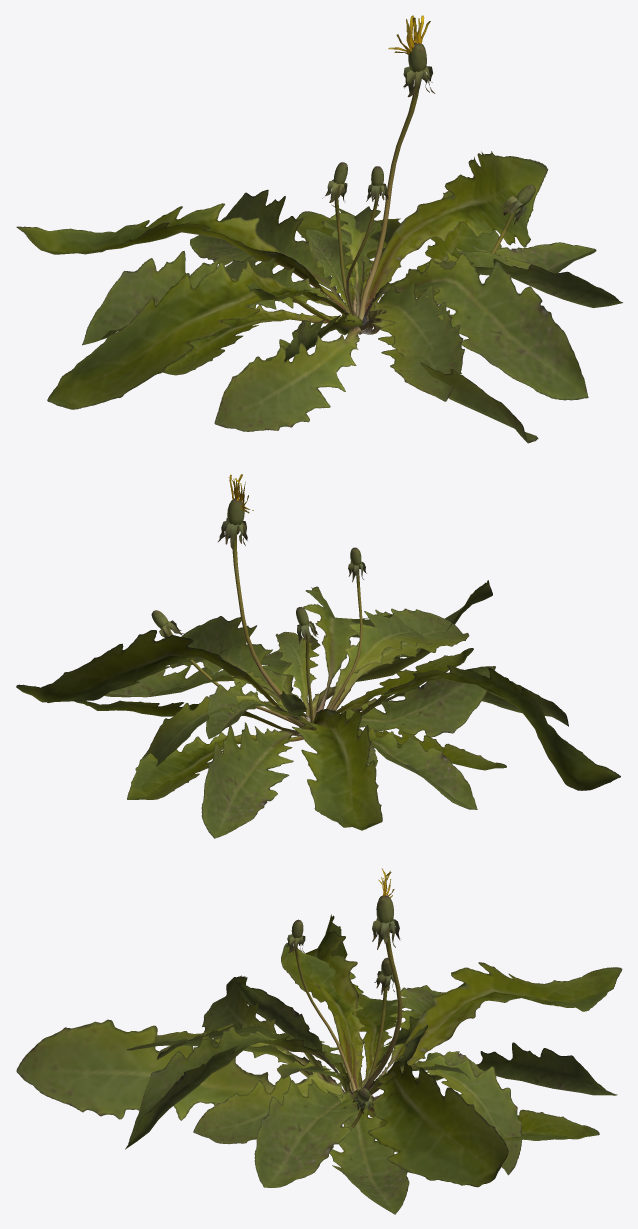
The model's file is dandelion.glb.
3 views of the same model, one above another, from view 1: azimuth 30°, elevation 25°; view 2: azimuth 150°, elevation 25°; view 3: azimuth 270°, elevation 25° (orthographic). The views are drawn at different scales.
Parts seen in each view (by area): view 1: dandelion_01_e_LOD0, dandelion_01_c_LOD0, dandelion_01_d_LOD0; view 2: dandelion_01_e_LOD0, dandelion_01_c_LOD0, dandelion_01_d_LOD0; view 3: dandelion_01_e_LOD0, dandelion_01_c_LOD0, dandelion_01_d_LOD0.
Part boxes in pixels (bbox=[...]): dandelion_01_e_LOD0: bbox=[16, 151, 622, 443]; dandelion_01_c_LOD0: bbox=[163, 15, 596, 401]; dandelion_01_d_LOD0: bbox=[190, 162, 535, 362]; dandelion_01_e_LOD0: bbox=[16, 580, 620, 830]; dandelion_01_c_LOD0: bbox=[104, 474, 506, 838]; dandelion_01_d_LOD0: bbox=[74, 607, 495, 838]; dandelion_01_e_LOD0: bbox=[16, 914, 622, 1187]; dandelion_01_c_LOD0: bbox=[127, 868, 616, 1214]; dandelion_01_d_LOD0: bbox=[193, 943, 617, 1152].
Bounding box in the file's own units: 0.2139 × 0.1072 × 0.2053.
1 material, 1 textured.
